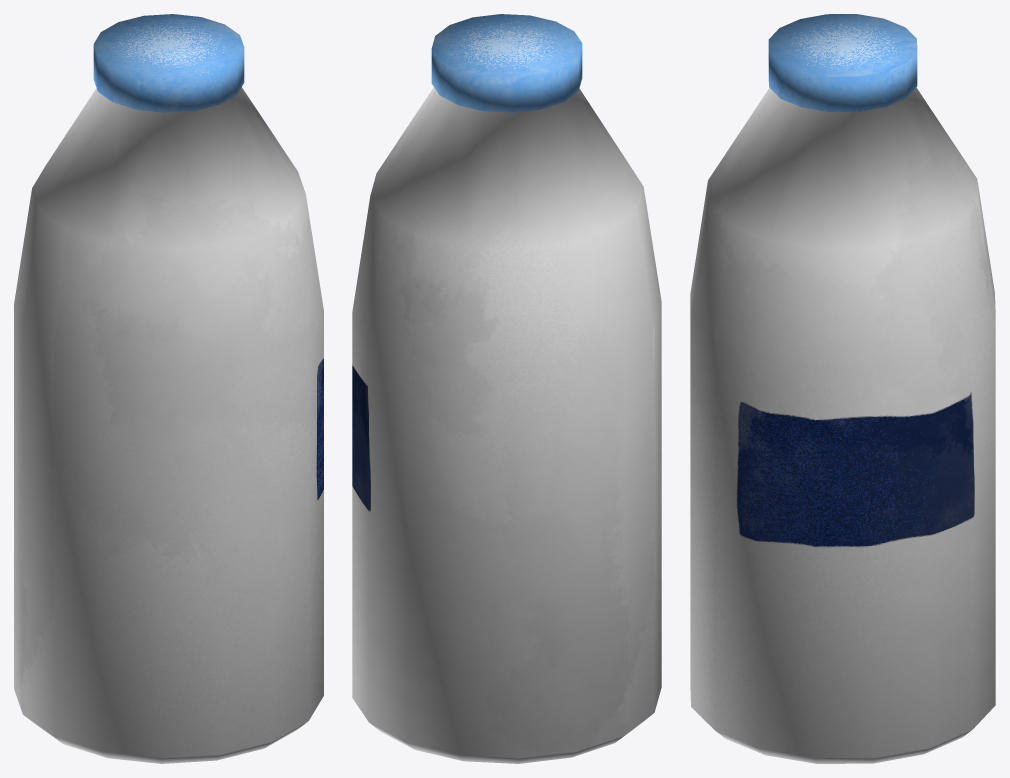
File: lait.glb
3 renders of one model, left to right at view 1: azimuth 30°, elevation 25°; view 2: azimuth 150°, elevation 25°; view 3: azimuth 270°, elevation 25°, orthographic.
Visible parts, largest first — view 1: lait; view 2: lait; view 3: lait.
Boxes of the visible parts, left/top/right/bottom form: lait: left=14, top=14, right=323, bottom=763; lait: left=352, top=14, right=661, bottom=763; lait: left=690, top=14, right=995, bottom=763.
Bounding box in the file's own units: 1.49 × 3.54 × 1.49.
Materials: 1 (1 with a texture image).
